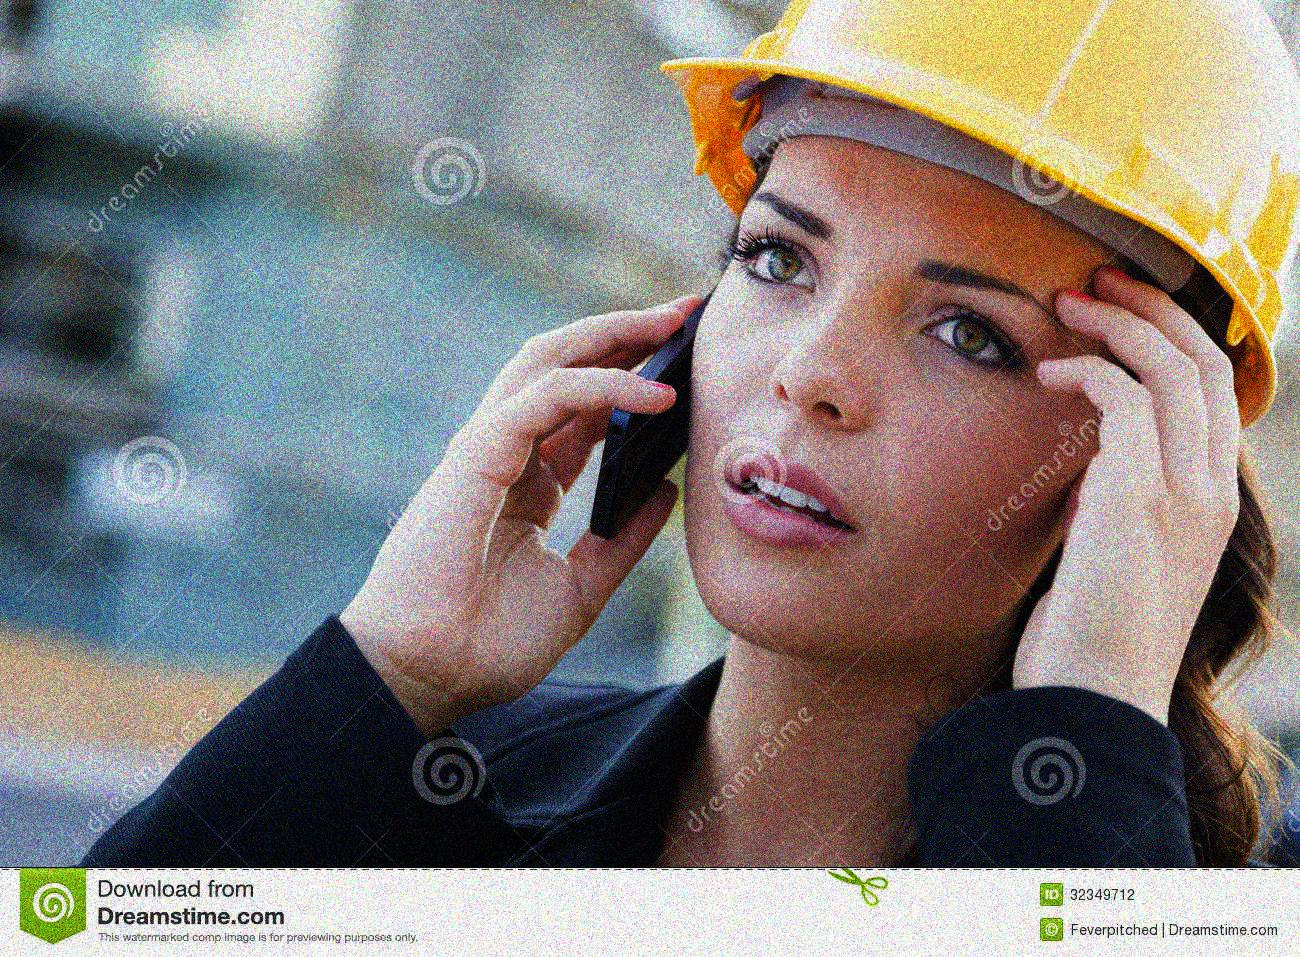helmet: (660, 1, 1300, 643)
